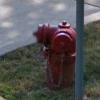Hydrant: (30, 15, 79, 87)
